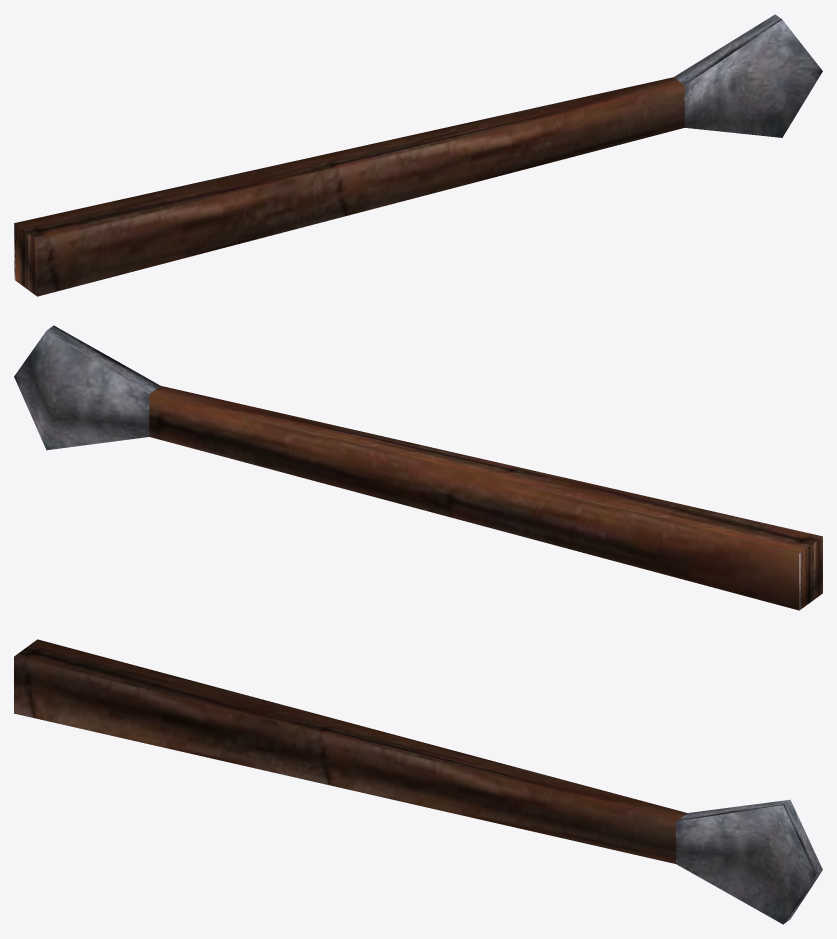
Rendered from ITMI_SCOOP.glb.
3 renders of one model, top to bottom at view 1: azimuth 30°, elevation 25°; view 2: azimuth 150°, elevation 25°; view 3: azimuth 330°, elevation 25°, orthographic.
Parts seen in each view (by area): view 1: Mesh; view 2: Mesh; view 3: Mesh.
Boxes of the visible parts, <box> form: Mesh: <box>14,14,822,296</box>; Mesh: <box>14,325,822,610</box>; Mesh: <box>14,639,822,924</box>.
Bounding box in the file's own units: 1.09 × 0.1555 × 0.0778.
1 material, 1 textured.
